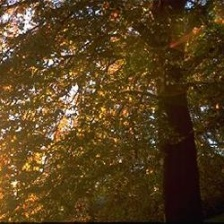neutral: (2, 2, 222, 222)
